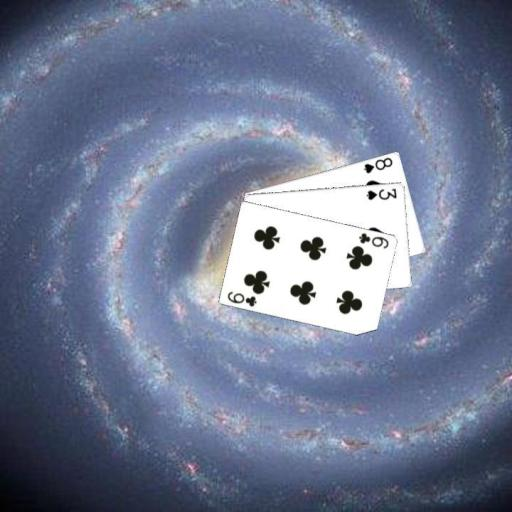3S: (364, 185, 399, 201)
6C: (357, 230, 391, 250), (225, 288, 259, 308)
8S: (360, 154, 394, 174)
